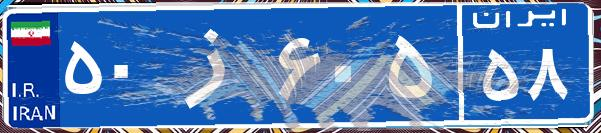0: (330, 28, 385, 110), (110, 28, 158, 105)
5: (385, 28, 445, 110), (57, 26, 110, 107), (475, 38, 525, 113)
6: (273, 28, 330, 110)
8: (525, 38, 570, 115)
ز: (158, 15, 273, 115)
